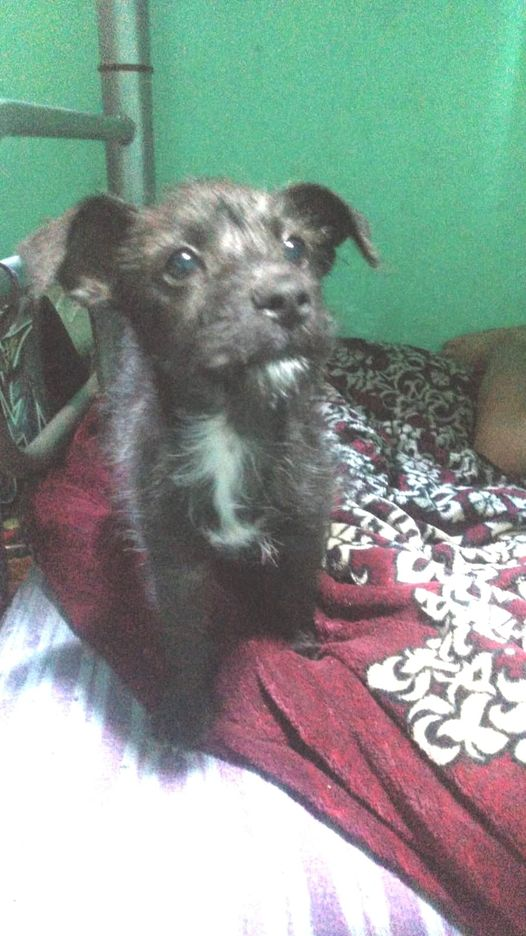dog: (19, 162, 400, 786)
